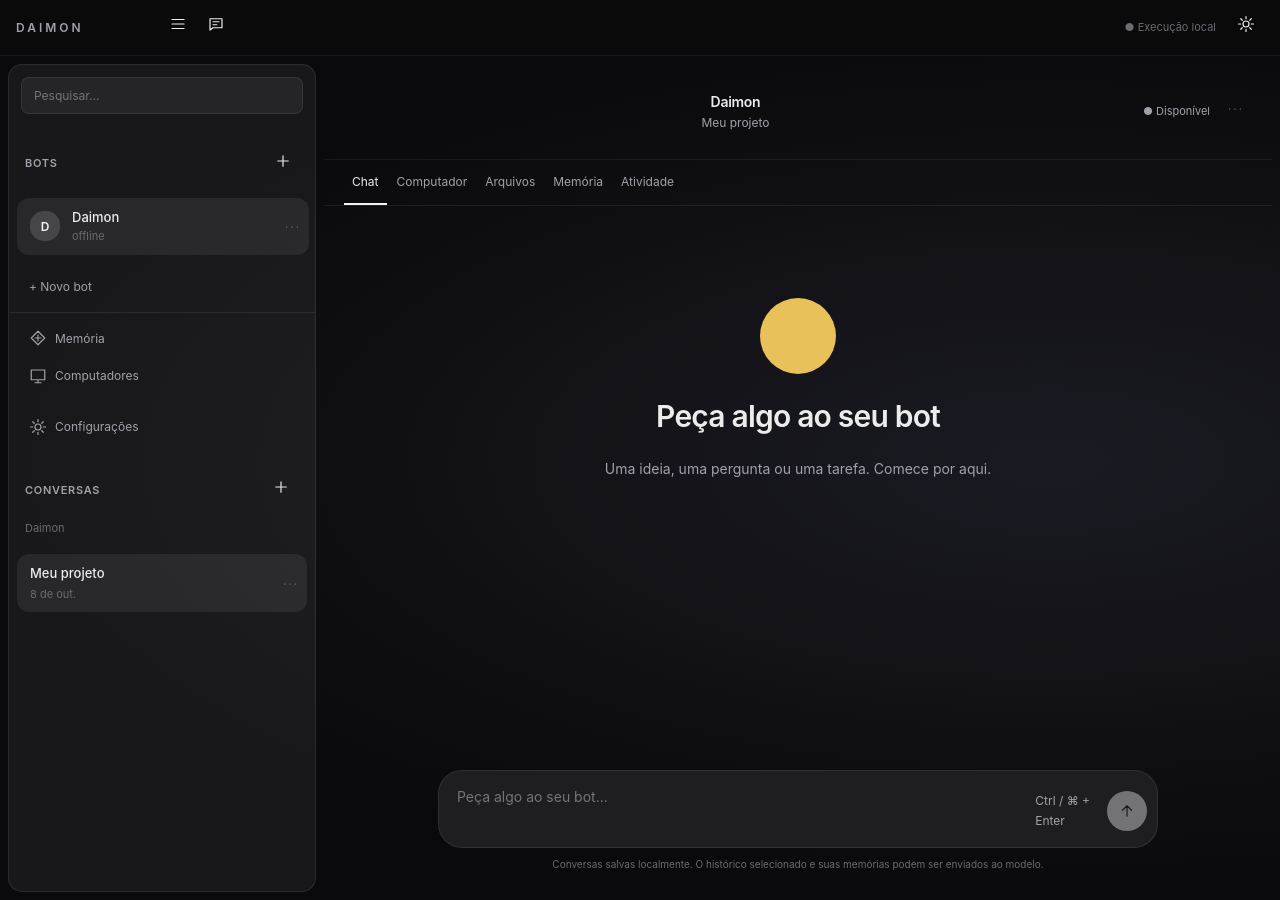
Test: opens progressive settings without changing conversation selection
This screenshot has width=1280, height=900.
Check: the button "Meu projeto 8 de out." is shown, box 17,554 -> 307,612
Check: the heading "Daimon" is shown, box 711,93 -> 760,110
Click the button named "Configurações": (1246, 28) 1228,10 -> 1264,46
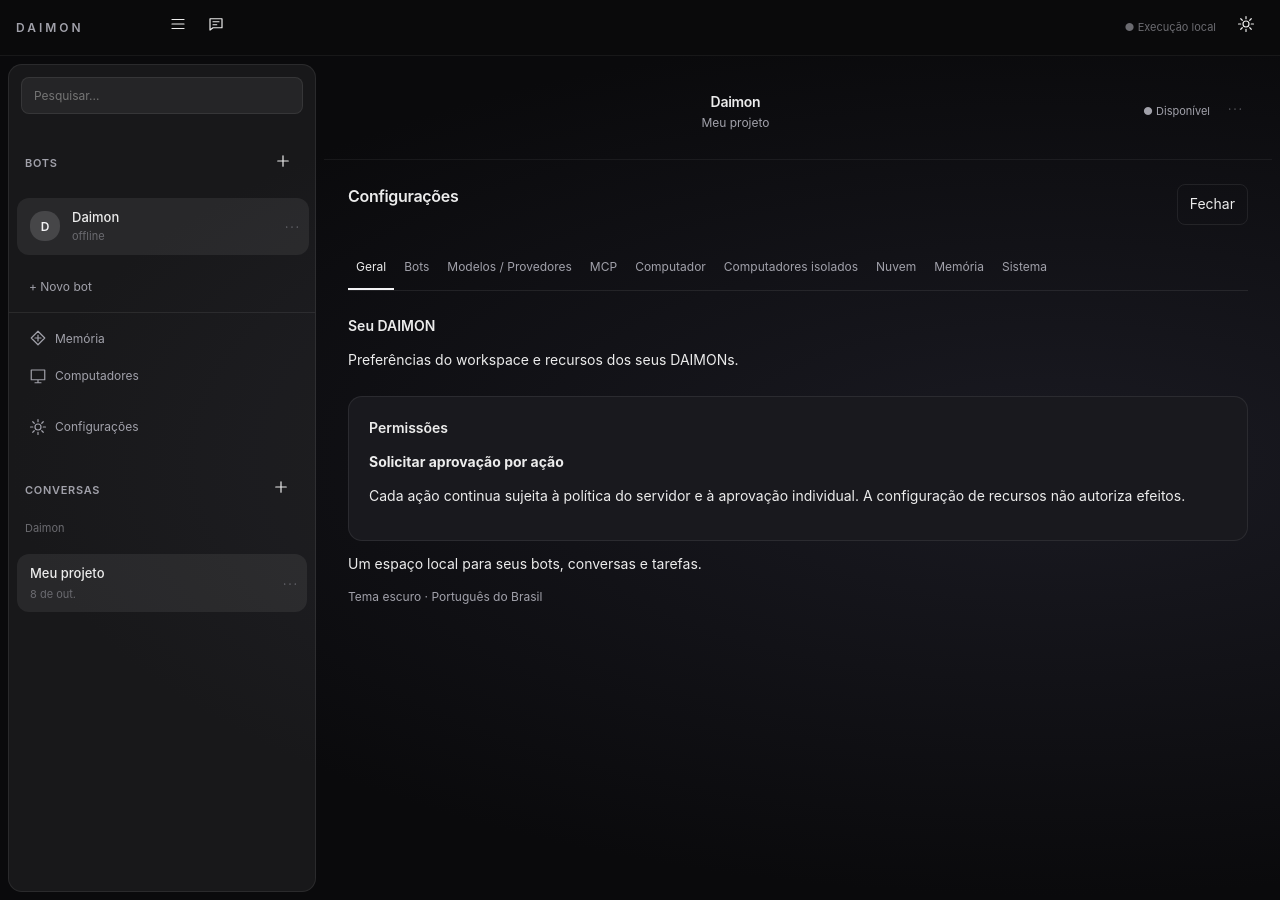
Click the tab "Modelos / Provedores": (510, 267) 439,245 -> 580,290
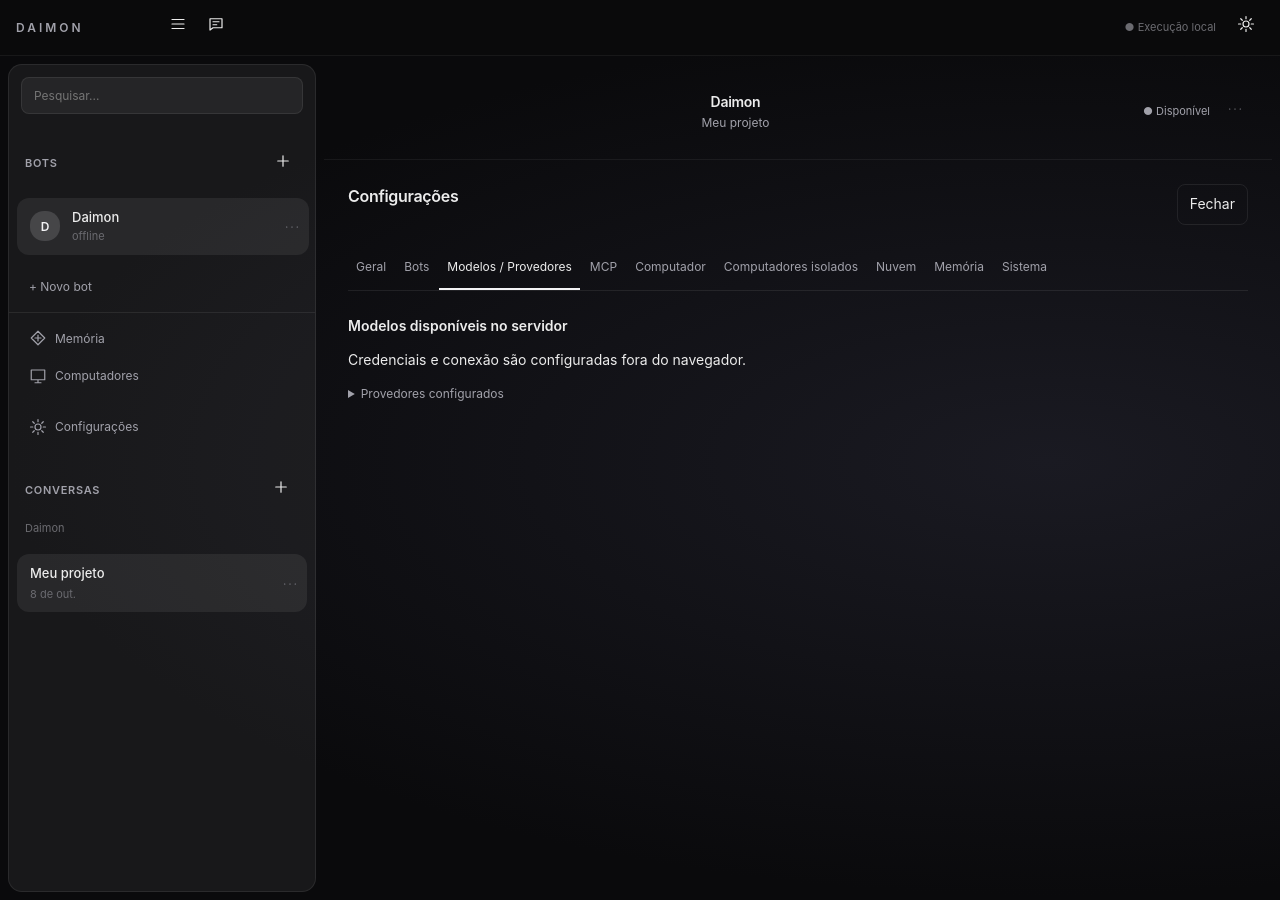
Check: the text "Credenciais e conexão são configuradas fora do navegador." is shown, box 348,351 -> 746,368
Click the button "Fechar": (1212, 204) 1177,184 -> 1248,225
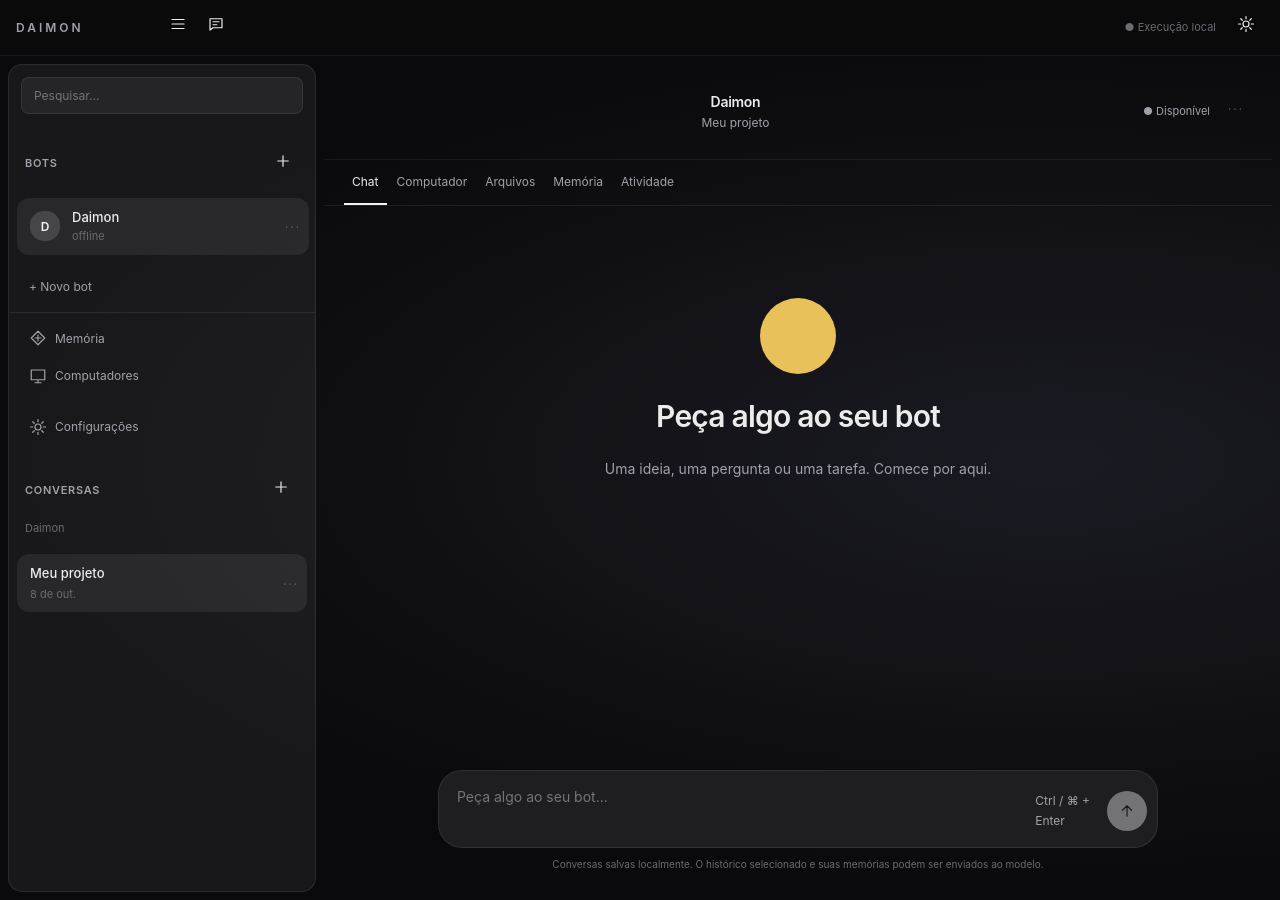
Check: the text box named "Mensagem" is enabled, box 457,781 -> 1025,837
